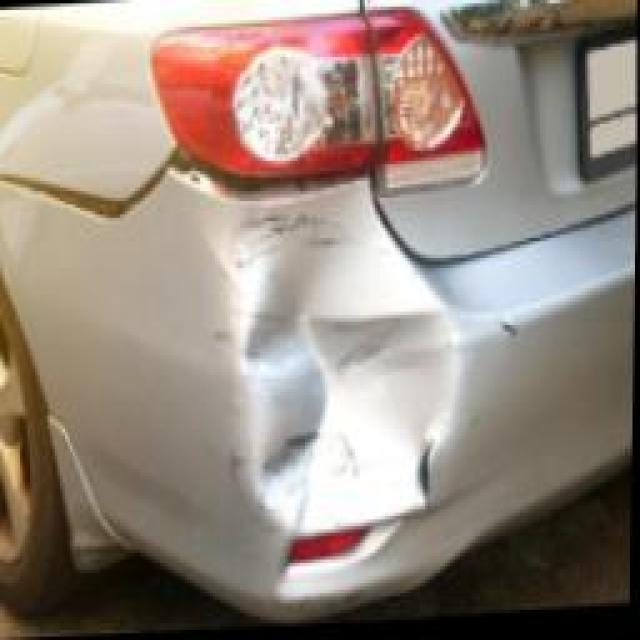Bumper: (135, 164, 466, 636)
Fender: (0, 0, 438, 211)
